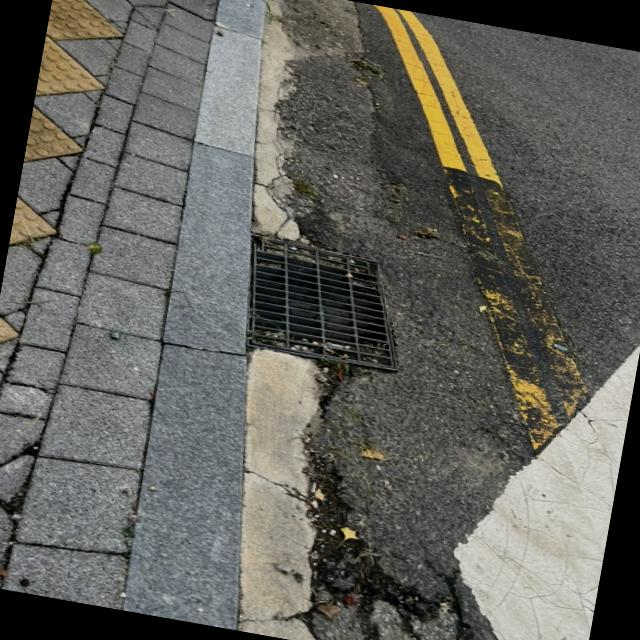drain_area: (253, 251, 389, 346)
drain_full: (247, 234, 395, 370)
